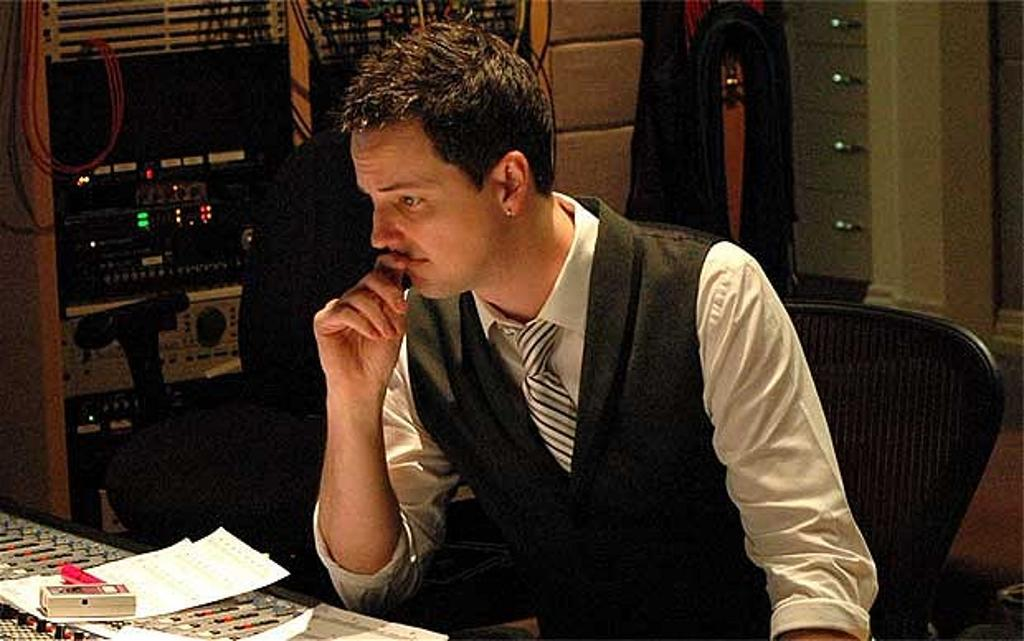face: (351, 119, 497, 293)
